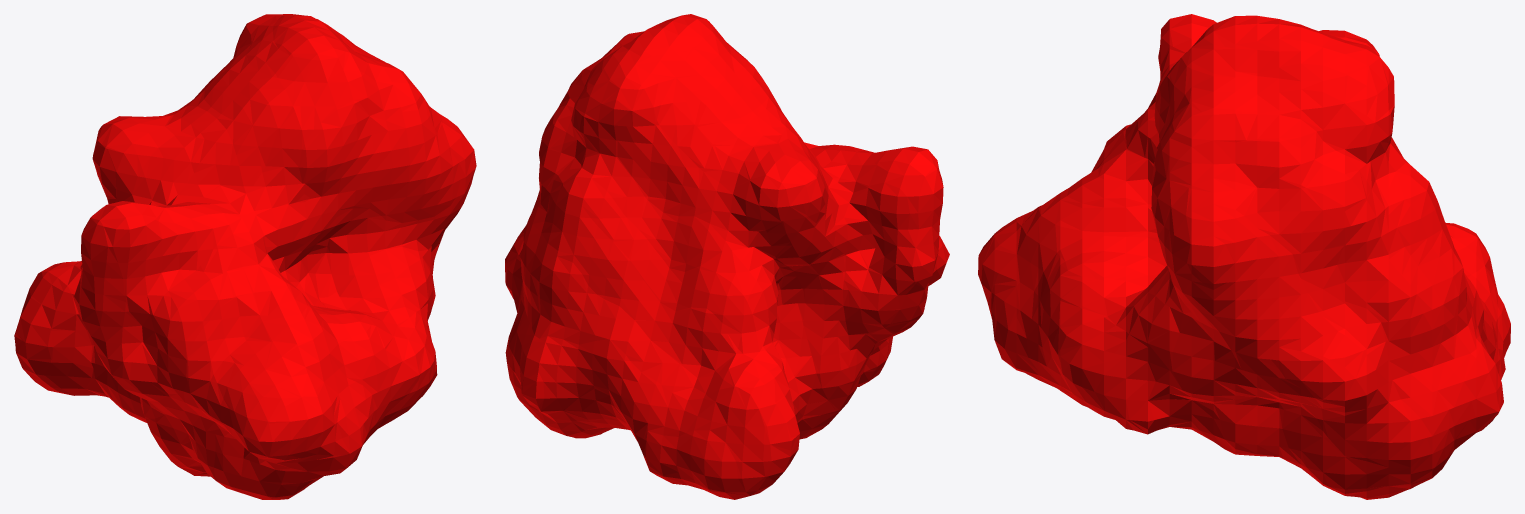
File: livM_coarse.dae
The picture shows the model from 3 angles, left to right: view 1: azimuth 30°, elevation 25°; view 2: azimuth 150°, elevation 25°; view 3: azimuth 270°, elevation 25°; orthographic projection. The views are drawn at different scales.
Parts seen in each view (by area): view 1: livM; view 2: livM; view 3: livM.
Part boxes in pixels (box(x1,y1,x2,y2)): livM: box(14, 14, 476, 499); livM: box(505, 14, 949, 499); livM: box(978, 14, 1510, 499).
Bounding box in the file's own units: 60.51 × 61.26 × 63.53.
